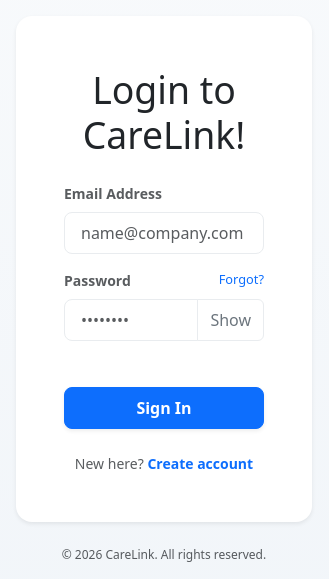
Test: Login Page Integration (useAuth only) › displays Caps Lock warning when active
Step 1. Click the password field with placeholder "••••••••" → coordinates (131, 320), box [64, 299, 198, 341]
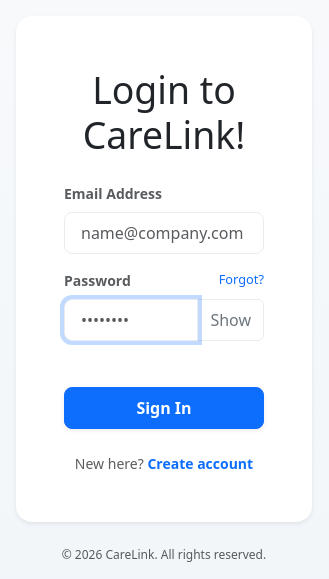
Step 2. Press Capslock
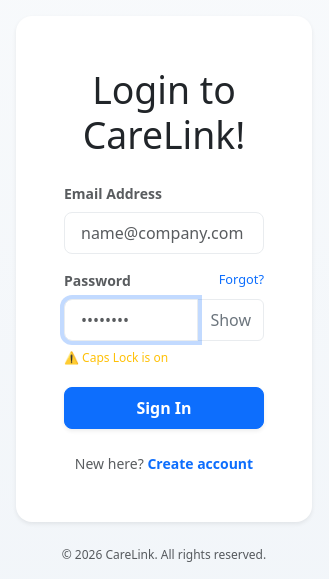
Result: the text "⚠️ Caps Lock is on" is shown at [64, 349, 168, 366]
